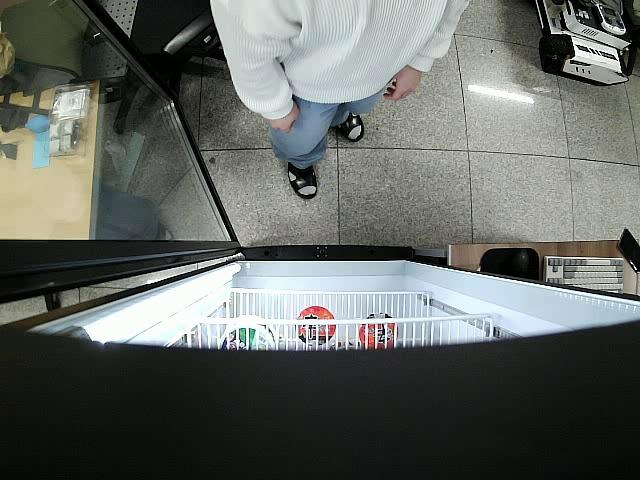00_hand: (383, 67, 421, 104), (267, 104, 301, 135)
